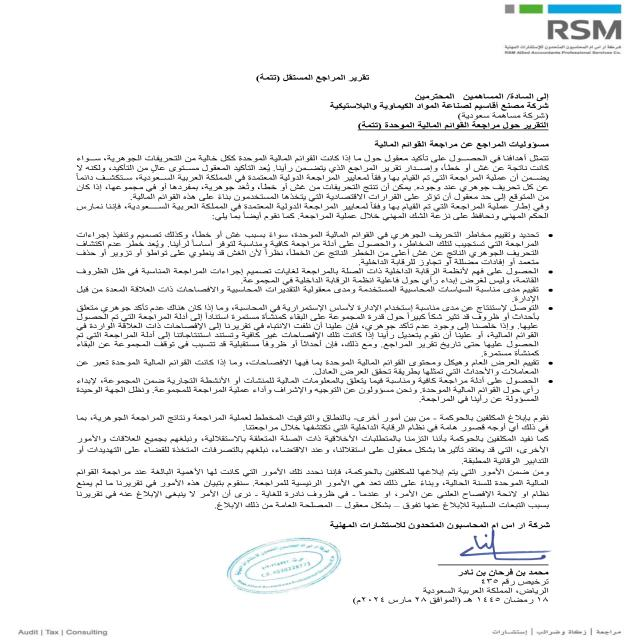auditor_report: (351, 122, 554, 136), (232, 68, 380, 86), (372, 140, 560, 151)
